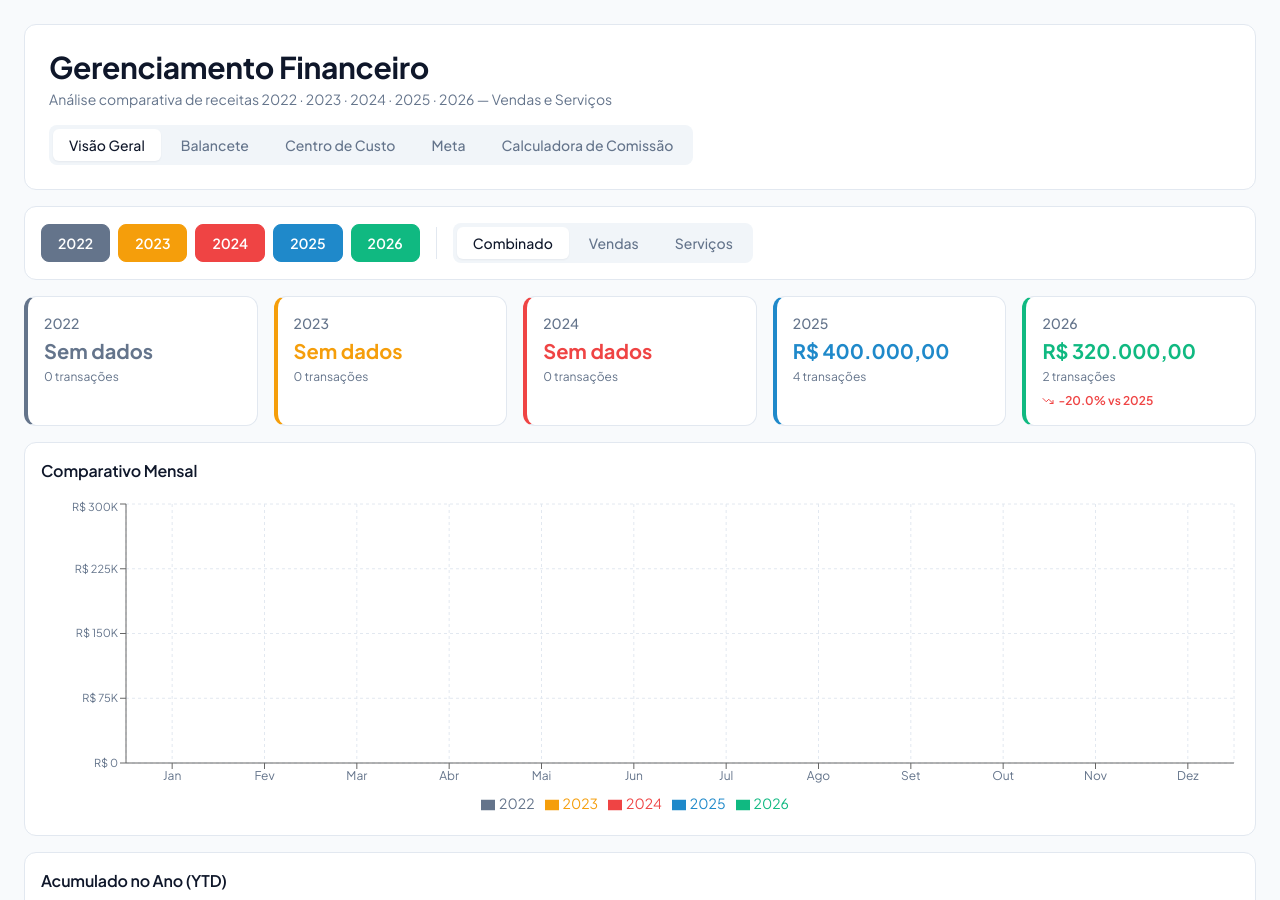
Scenario: Financeiro — tabela mensal comparativa › o filtro de tipo também muda a tabela
This screenshot has width=1280, height=900.
Click the tab "Serviços" at (704, 243), box [659,227,749,259]
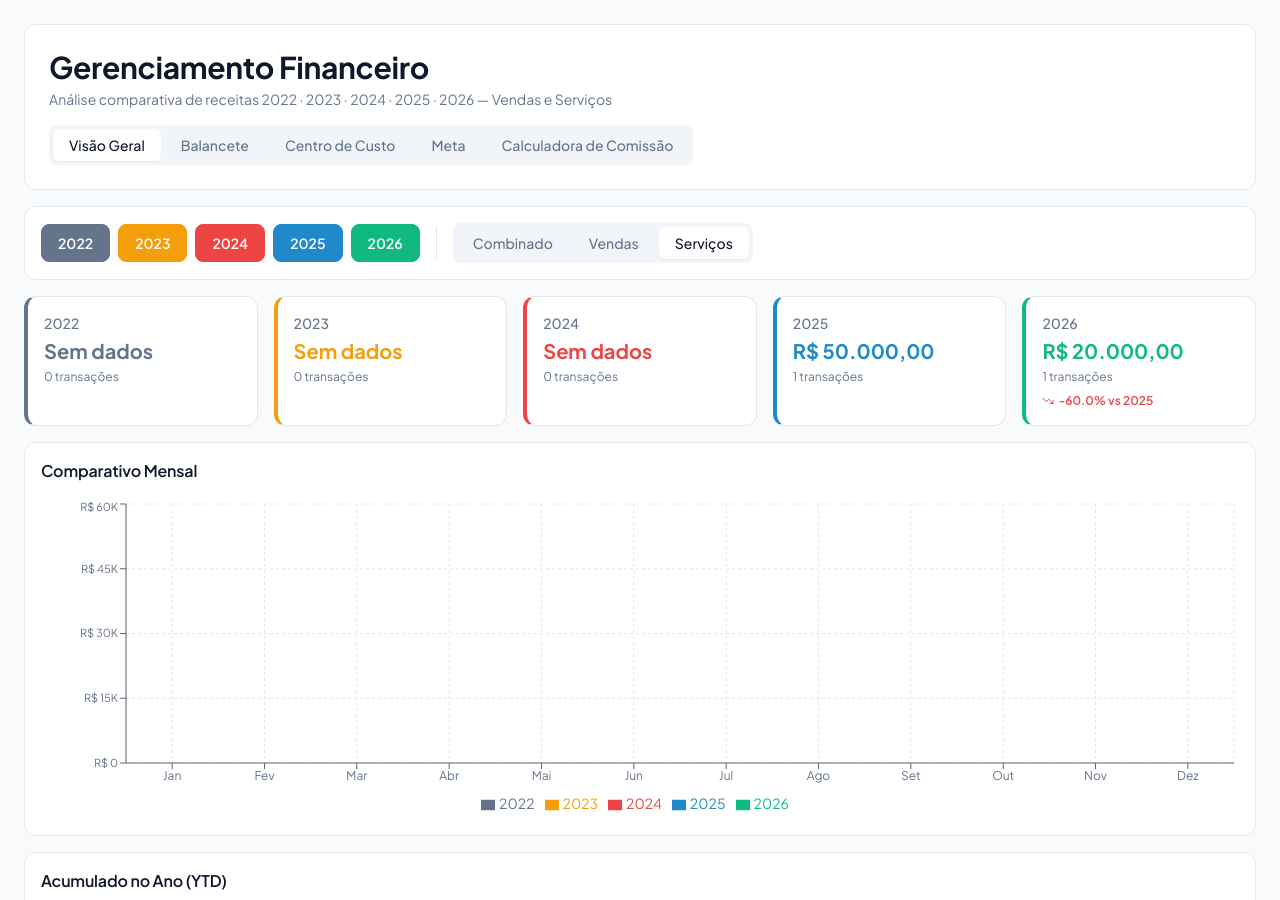
Now the text "R$ 50.000,00" is shown, box [793,338,934,363]
Now the text "R$ 20.000,00" is shown, box [1042,338,1184,363]
